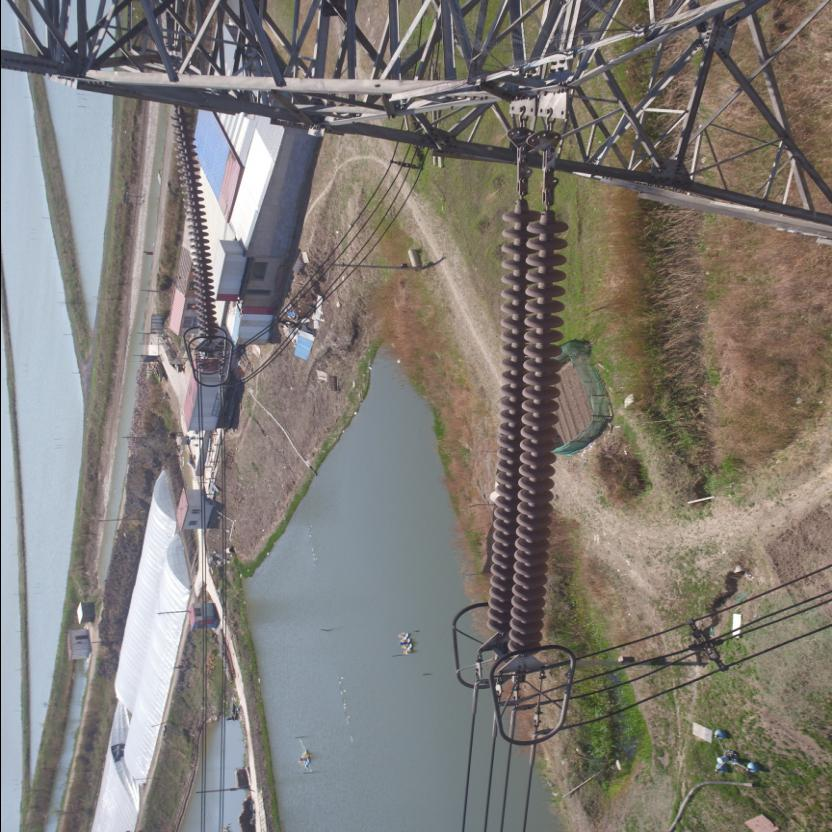insulator: (483, 182, 567, 660), (162, 102, 218, 344)
